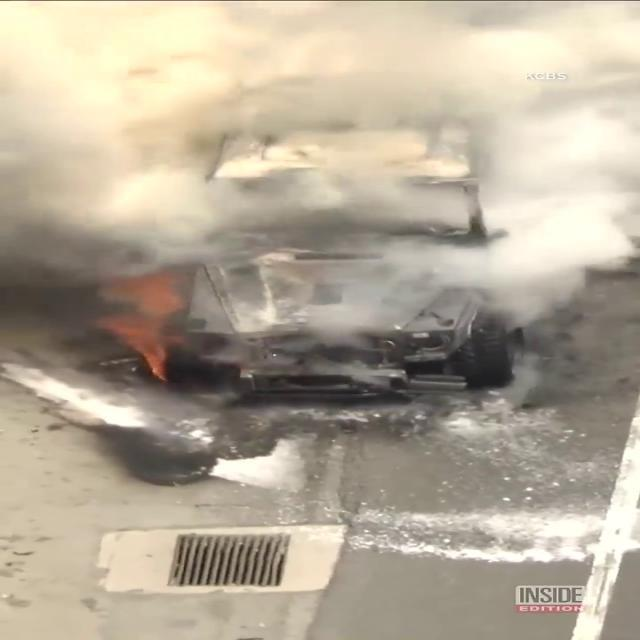Fire: (96, 274, 198, 386)
Smoke: (1, 2, 638, 340)
